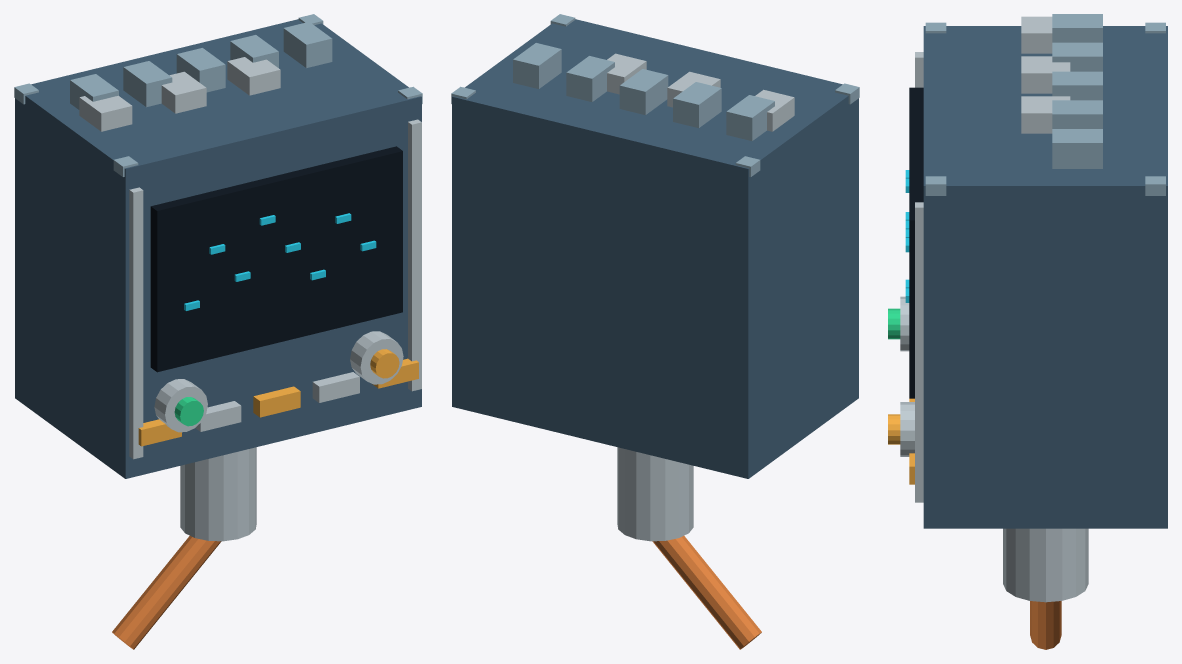
Rendered from 42_L76_WaferCathodeContactResistanceMonitor.fbx.
3 views of the same model, side by side, from view 1: azimuth 30°, elevation 25°; view 2: azimuth 150°, elevation 25°; view 3: azimuth 270°, elevation 25° (orthographic). The views are drawn at different scales.
Visible parts, largest first — view 1: WaferCathodeContactResistanceMonitor; view 2: WaferCathodeContactResistanceMonitor; view 3: WaferCathodeContactResistanceMonitor.
Part boxes in pixels (bbox=[...]): WaferCathodeContactResistanceMonitor: bbox=[14, 14, 422, 649]; WaferCathodeContactResistanceMonitor: bbox=[451, 14, 859, 649]; WaferCathodeContactResistanceMonitor: bbox=[888, 14, 1167, 649].
Bounding box in the file's own units: 62.72 × 112 × 45.85.
